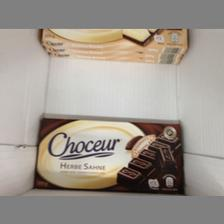Schokolade: (33, 116, 186, 196), (41, 28, 187, 64)
